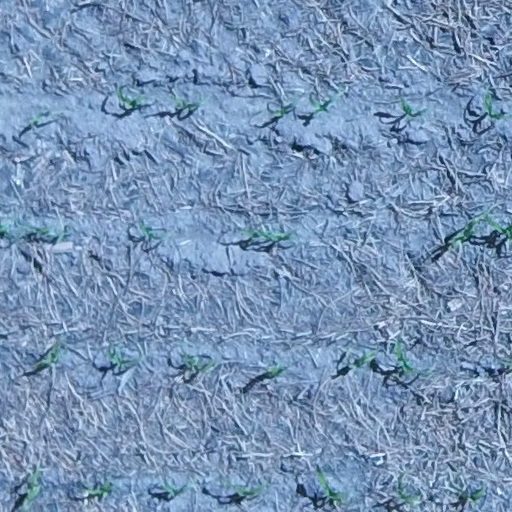planta: (10, 215, 68, 245), (312, 467, 349, 507), (238, 226, 296, 245), (391, 338, 418, 378), (479, 87, 509, 122), (112, 84, 148, 112), (307, 90, 343, 118), (222, 478, 268, 499), (394, 95, 427, 120), (34, 342, 64, 369), (345, 347, 377, 372), (169, 93, 207, 114), (80, 478, 115, 500), (182, 352, 217, 374), (394, 481, 422, 507), (103, 344, 132, 369), (137, 219, 166, 243), (159, 479, 193, 498), (462, 484, 489, 507), (264, 361, 286, 380)
